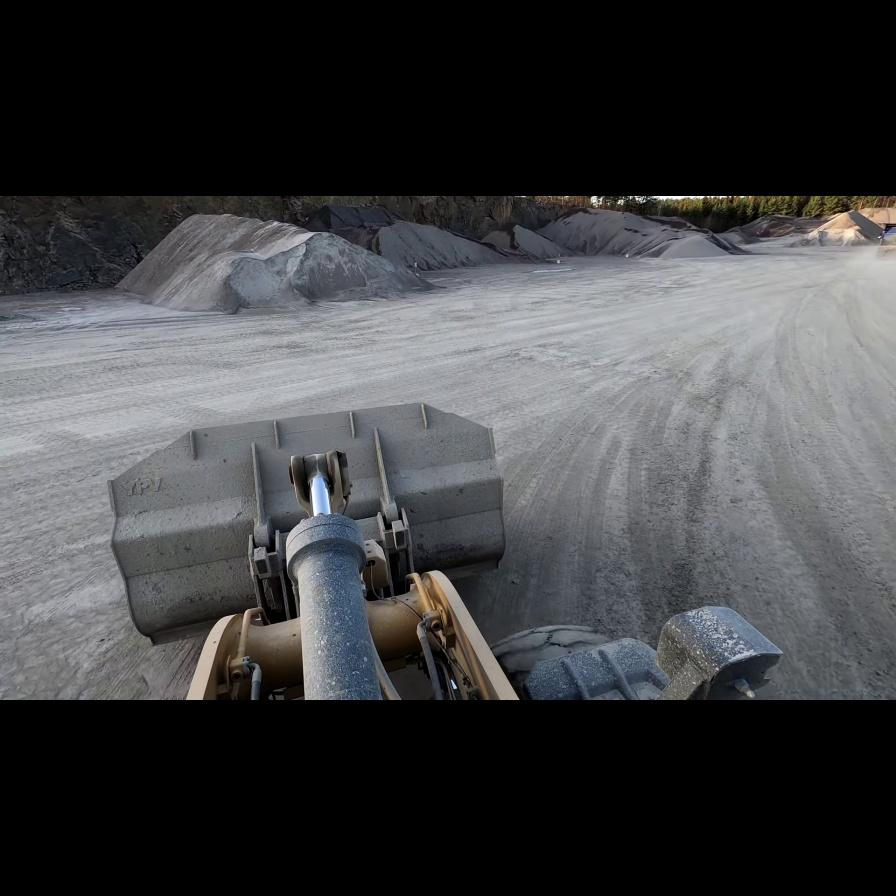anchor: (290, 450, 349, 519)
pile of gravel: (99, 208, 522, 318), (530, 207, 738, 260), (749, 202, 896, 255)
